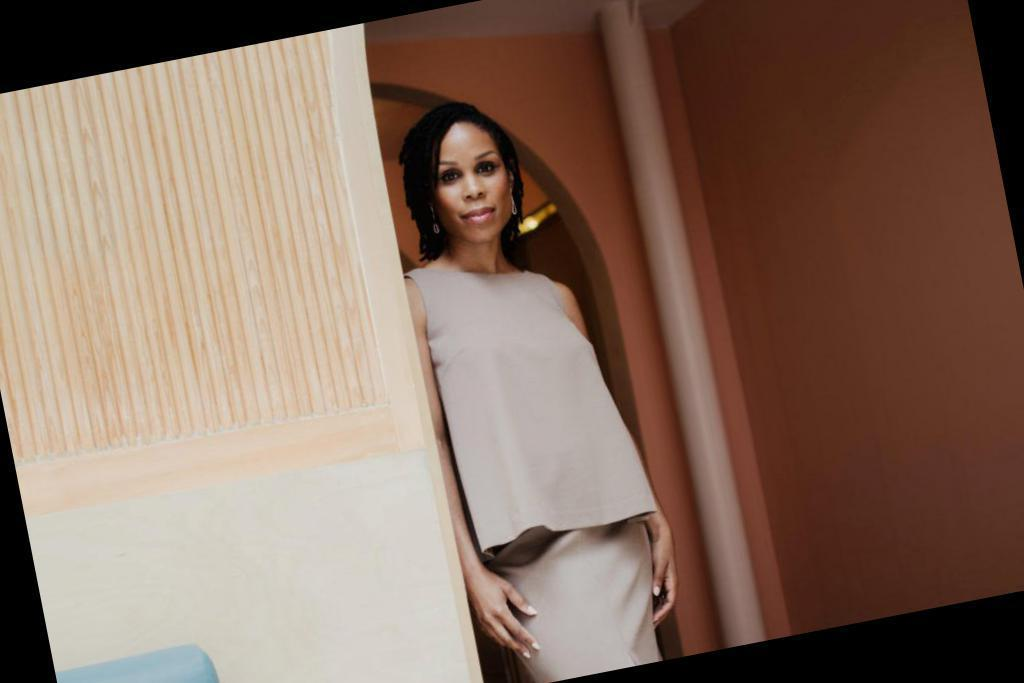Sober: (433, 132, 515, 239)
